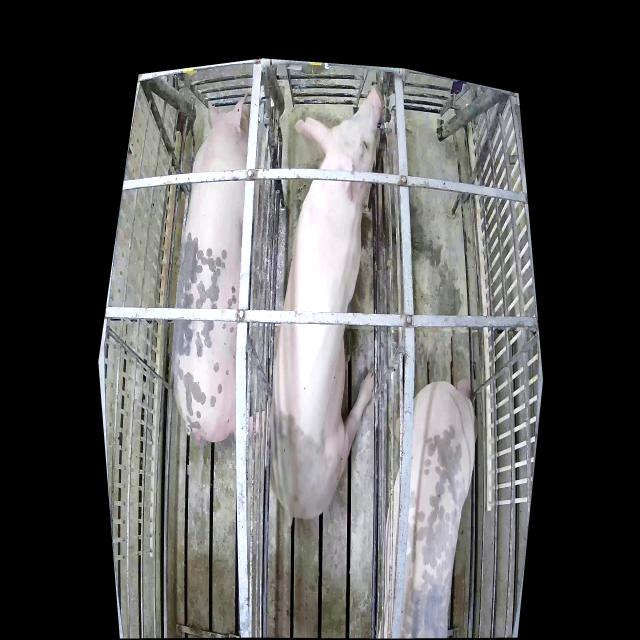pig: (269, 85, 382, 520), (174, 91, 250, 441), (378, 380, 474, 637)
